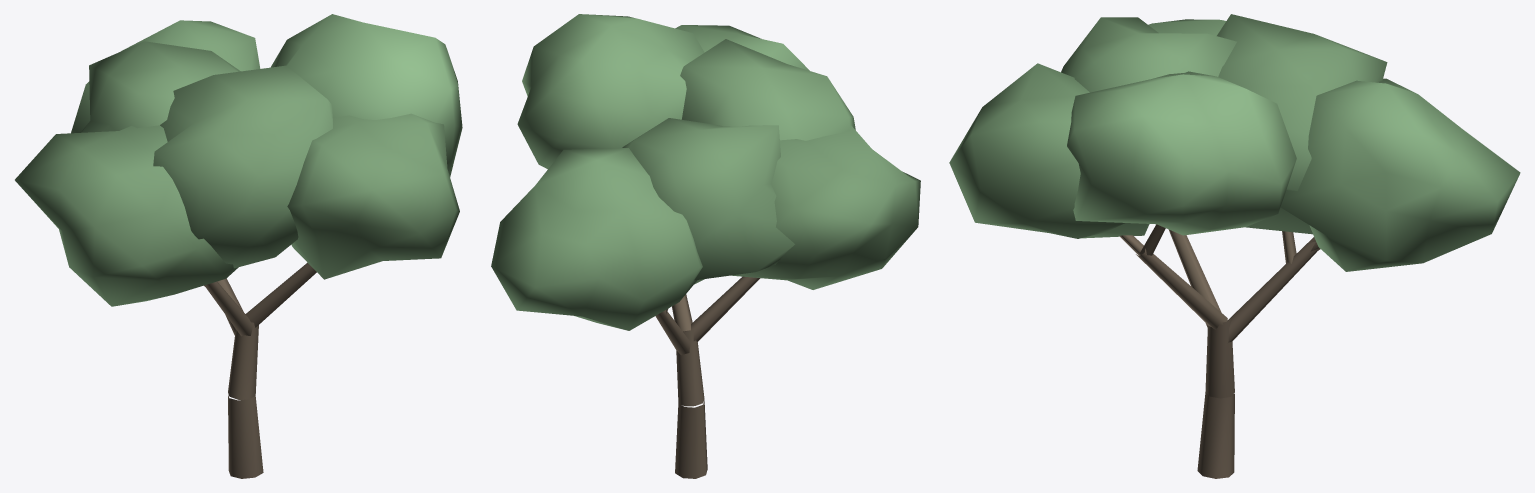
Rendered from tree-clumped.glb.
The picture shows the model from 3 angles, left to right: view 1: azimuth 30°, elevation 25°; view 2: azimuth 150°, elevation 25°; view 3: azimuth 270°, elevation 25°; orthographic projection. The views are drawn at different scales.
Visible parts, largest first — view 1: tree-clumped; view 2: tree-clumped; view 3: tree-clumped.
Part boxes in pixels (x1,y1,x2,y2): tree-clumped: (15,14,462,478); tree-clumped: (491,14,920,478); tree-clumped: (949,14,1520,478).
Size of the model in its own units: 8.12 by 8.33 by 9.61.
